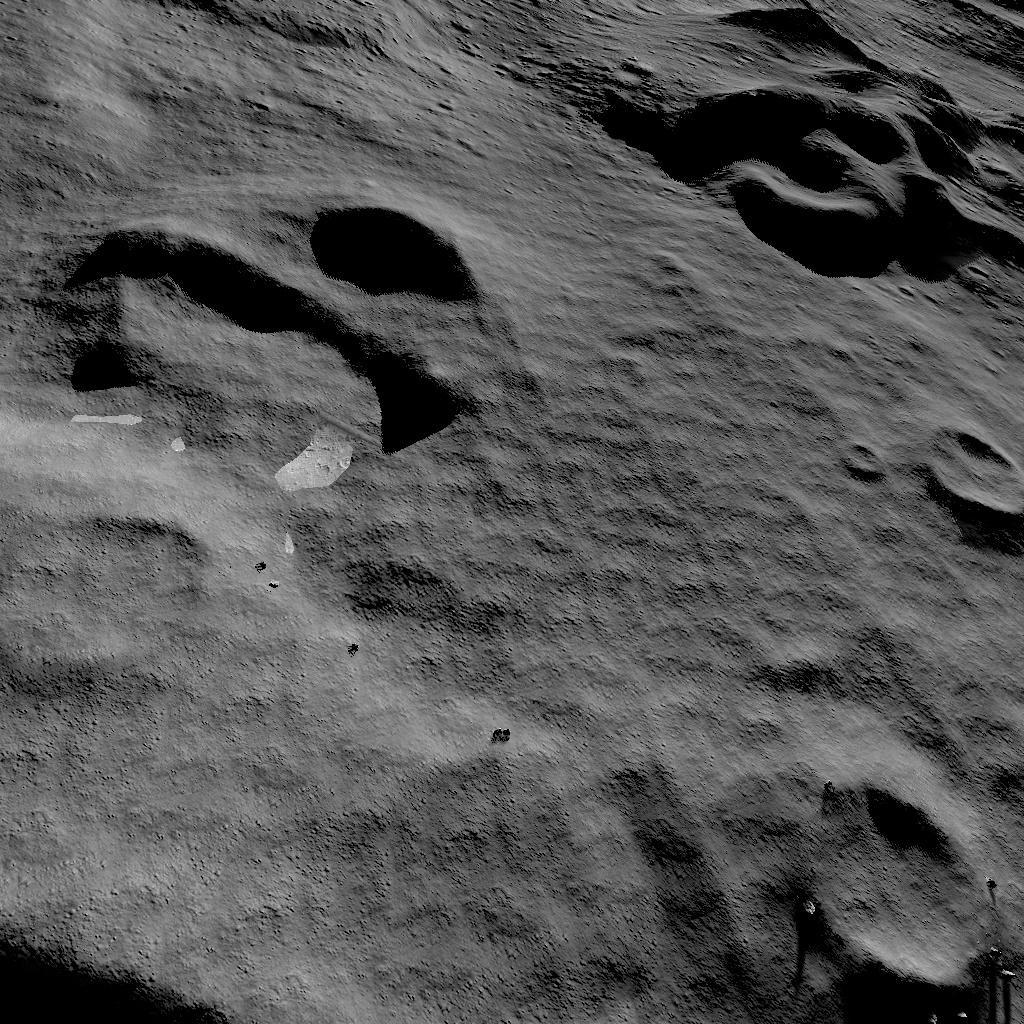Crater: (36, 168, 483, 440), (611, 0, 1024, 276), (769, 754, 1009, 1002), (0, 873, 331, 1024), (6, 468, 221, 670), (889, 406, 1024, 540), (829, 426, 873, 474)
Plan surface: (506, 305, 811, 700), (354, 723, 725, 1024), (0, 0, 597, 150)
